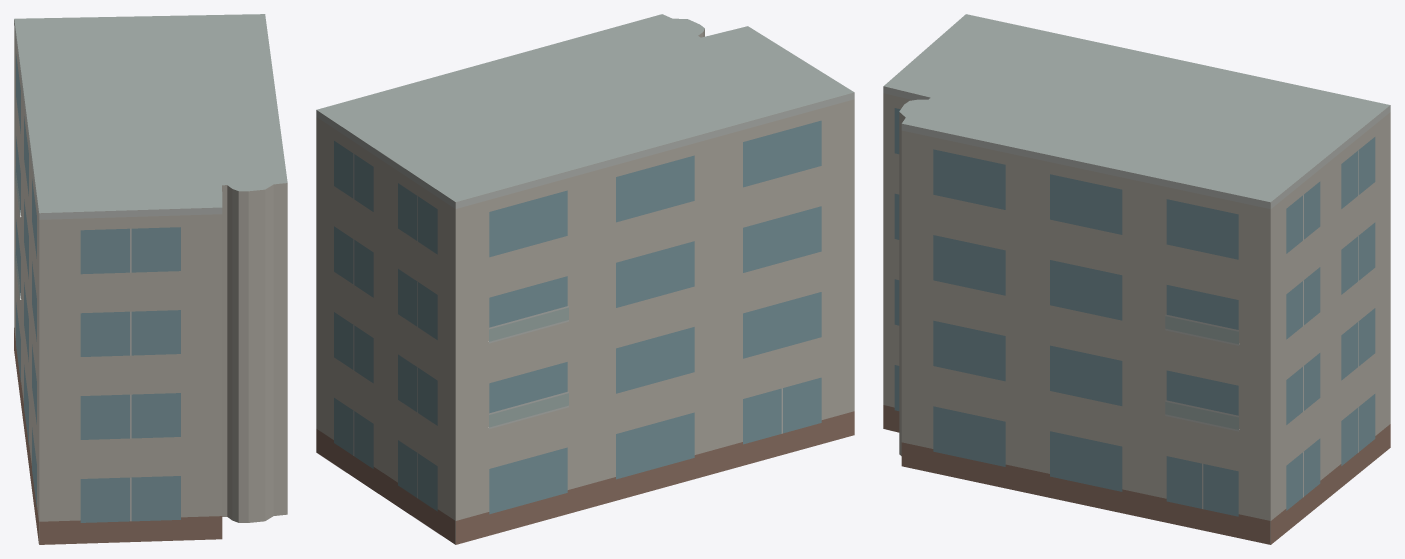
The model's file is survey-upis-32726188.glb.
3 views of the same model, side by side, from view 1: azimuth 30°, elevation 25°; view 2: azimuth 150°, elevation 25°; view 3: azimuth 270°, elevation 25° (orthographic). The views are drawn at different scales.
Visible parts, largest first — view 1: survey-upis-32726188.tmp; view 2: survey-upis-32726188.tmp; view 3: survey-upis-32726188.tmp.
Boxes of the visible parts, <box> form: survey-upis-32726188.tmp: <box>14,14,287,544</box>; survey-upis-32726188.tmp: <box>316,14,854,544</box>; survey-upis-32726188.tmp: <box>883,14,1390,544</box>.
Size of the model in its own units: 14.27 by 12.1 by 16.24.
